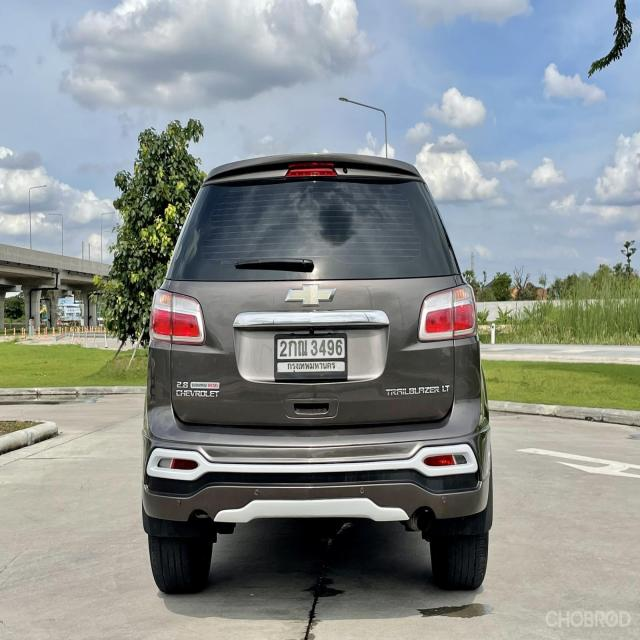license_plate: (272, 328, 350, 385)
